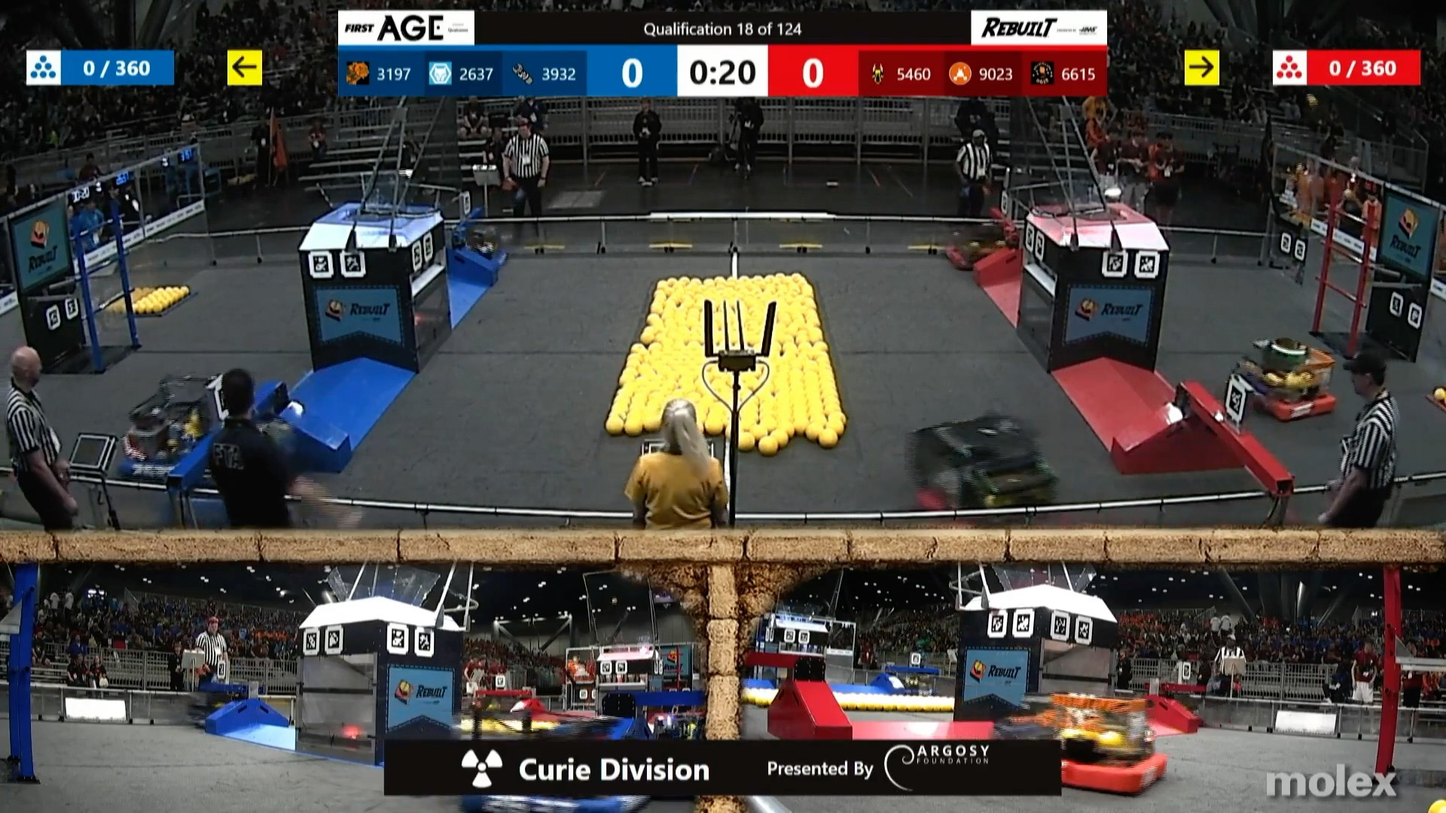bumpers: (1053, 739, 1181, 802), (104, 416, 224, 483), (1229, 379, 1344, 420), (938, 239, 1032, 275), (455, 239, 518, 271)
